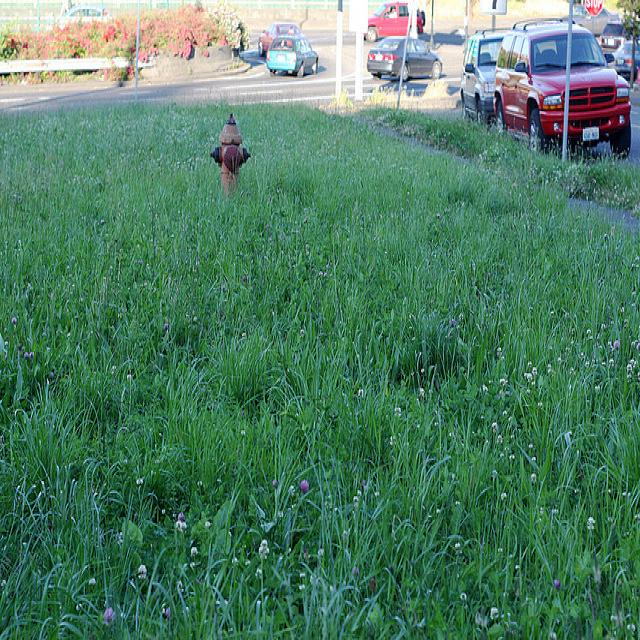Vehicle: (491, 12, 632, 158), (460, 29, 505, 123), (367, 36, 442, 80), (266, 34, 320, 78), (365, 3, 425, 39), (258, 22, 304, 56), (611, 38, 640, 80)
